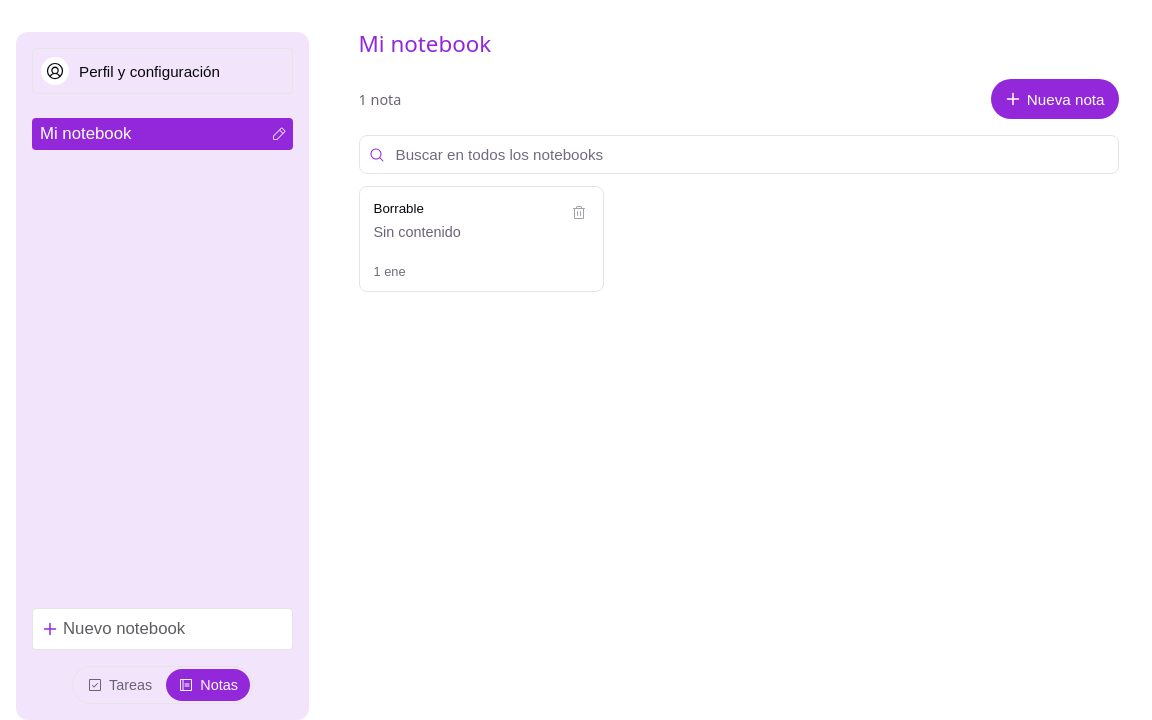
Notes › deletes a note without a native dialog and restores it via the undo toast
This screenshot has width=1152, height=720.
Step 1. Click the button named "eliminar nota \"borrable\"" → [579, 213], box 563,197 -> 595,229
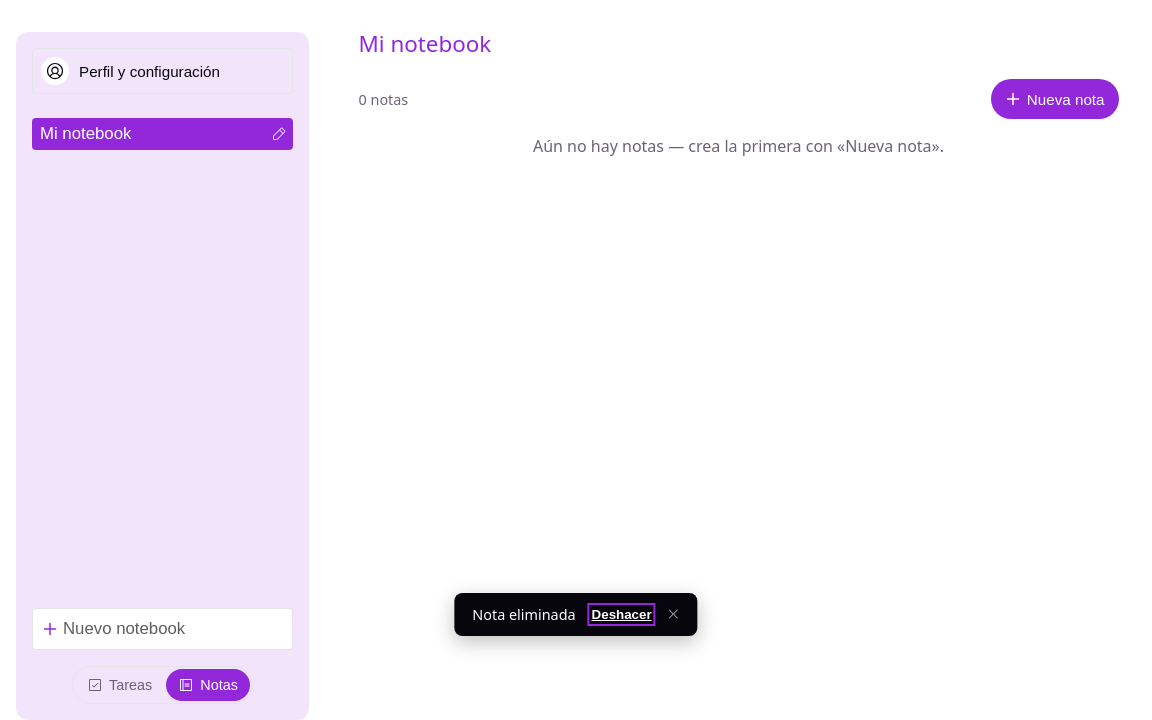
Now the button "Borrable" is gone
Now the text "Nota eliminada" is shown, box 472,603 -> 576,626
Step 2. Click the button "Deshacer" → [622, 614], box 592,607 -> 652,622
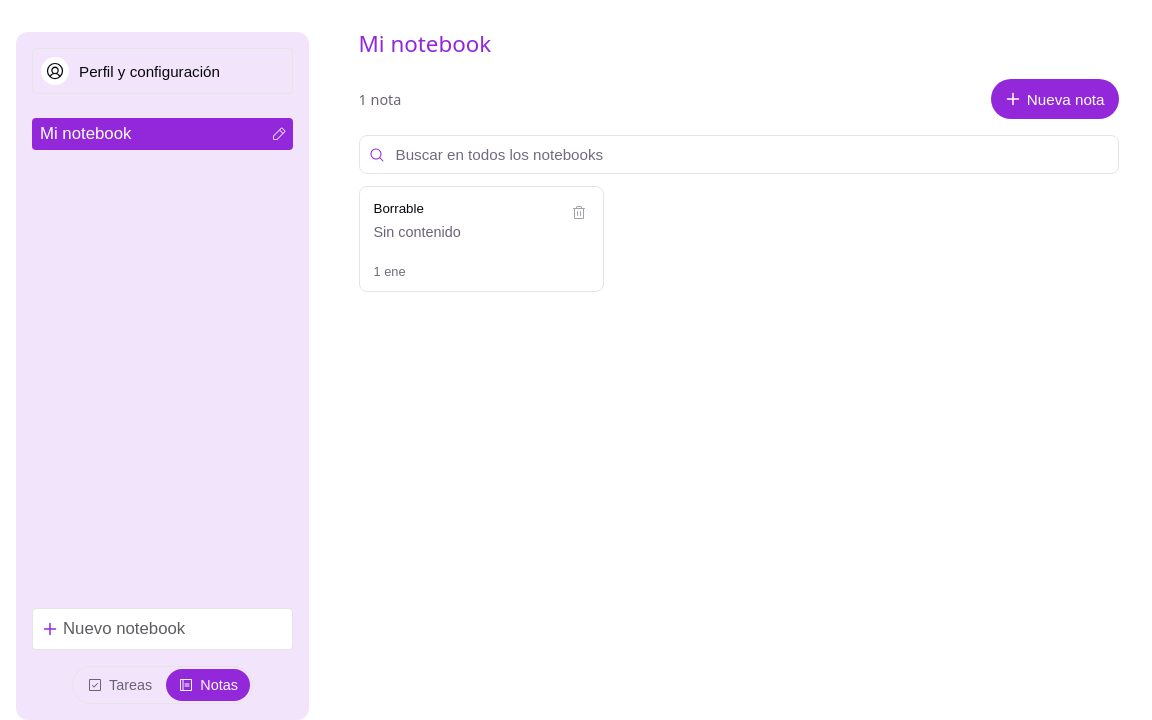
Now the text "Borrable" is shown, box 374,201 -> 424,216
